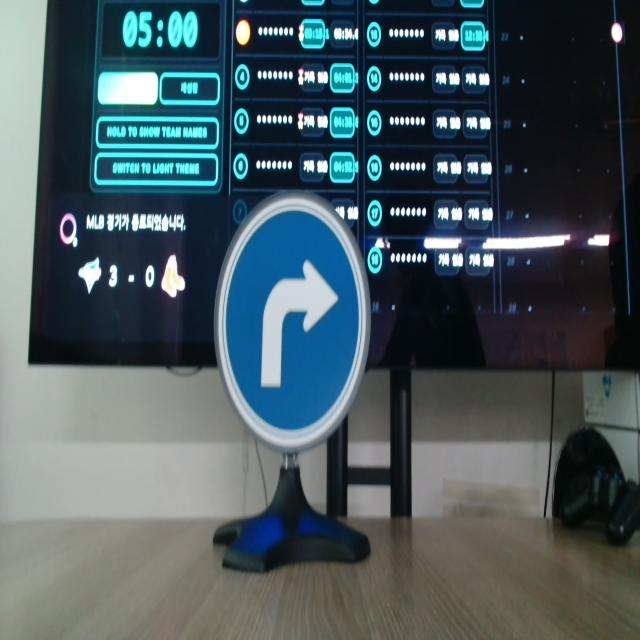right_dierection: (207, 179, 398, 456)
